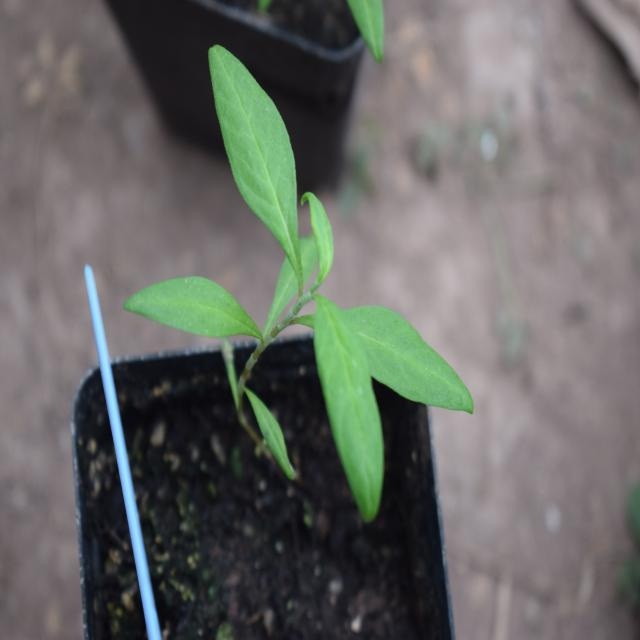white_smart_weed: (146, 23, 470, 529)
